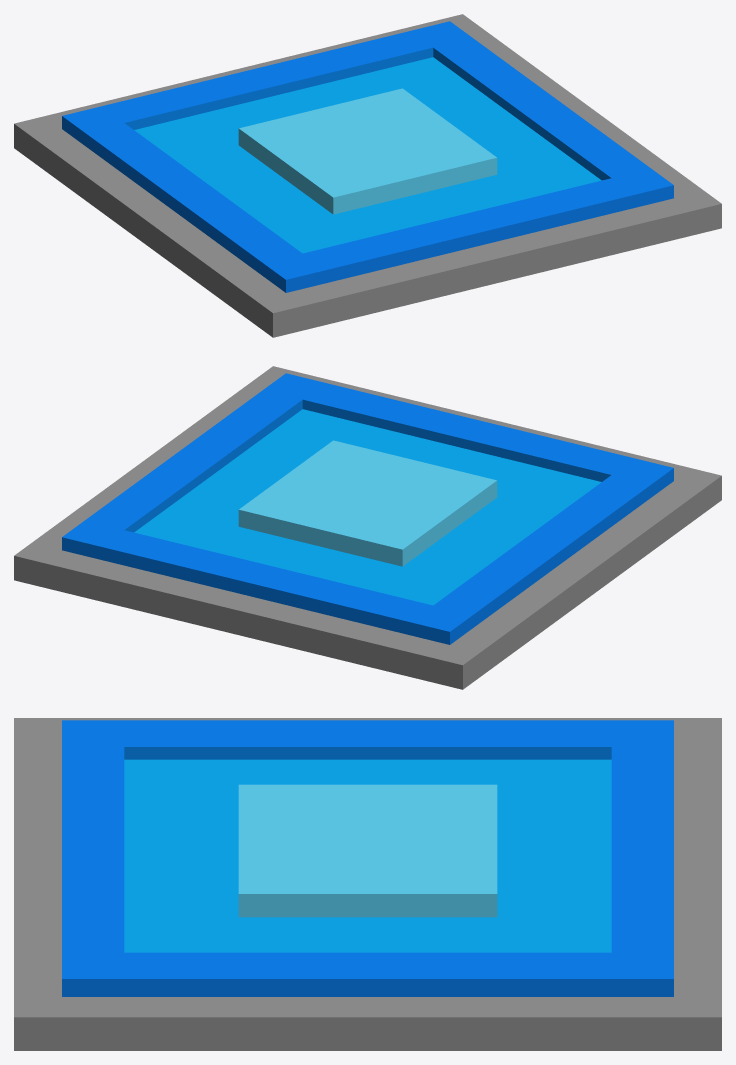
The model's file is Nightclub_DanceFloor_Blue.fbx.
3 renders of one model, top to bottom at view 1: azimuth 30°, elevation 25°; view 2: azimuth 150°, elevation 25°; view 3: azimuth 270°, elevation 25°, orthographic. The views are drawn at different scales.
Visible parts, largest first — view 1: Plane.1430; view 2: Plane.1430; view 3: Plane.1430.
Part boxes in pixels (left/top/right/bottom): Plane.1430: left=14, top=14, right=721, bottom=337; Plane.1430: left=14, top=366, right=721, bottom=689; Plane.1430: left=14, top=718, right=721, bottom=1050.
Bounding box in the file's own units: 91.17 × 8.78 × 91.17.
